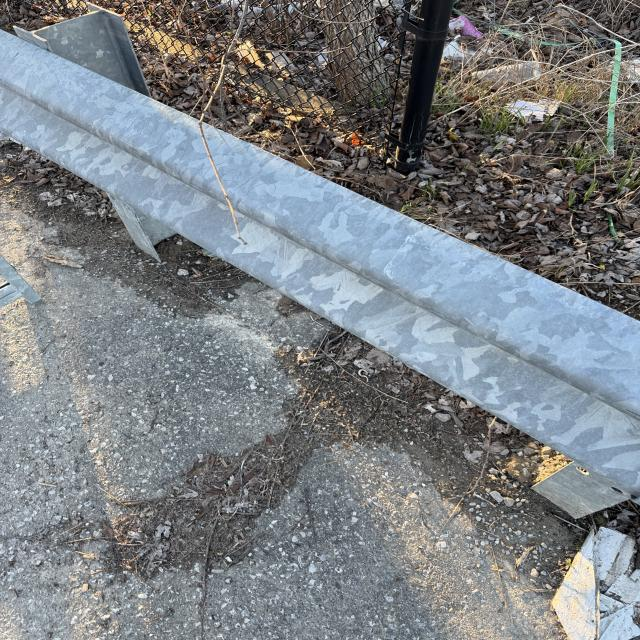Guard rail: (0, 38, 604, 436)
